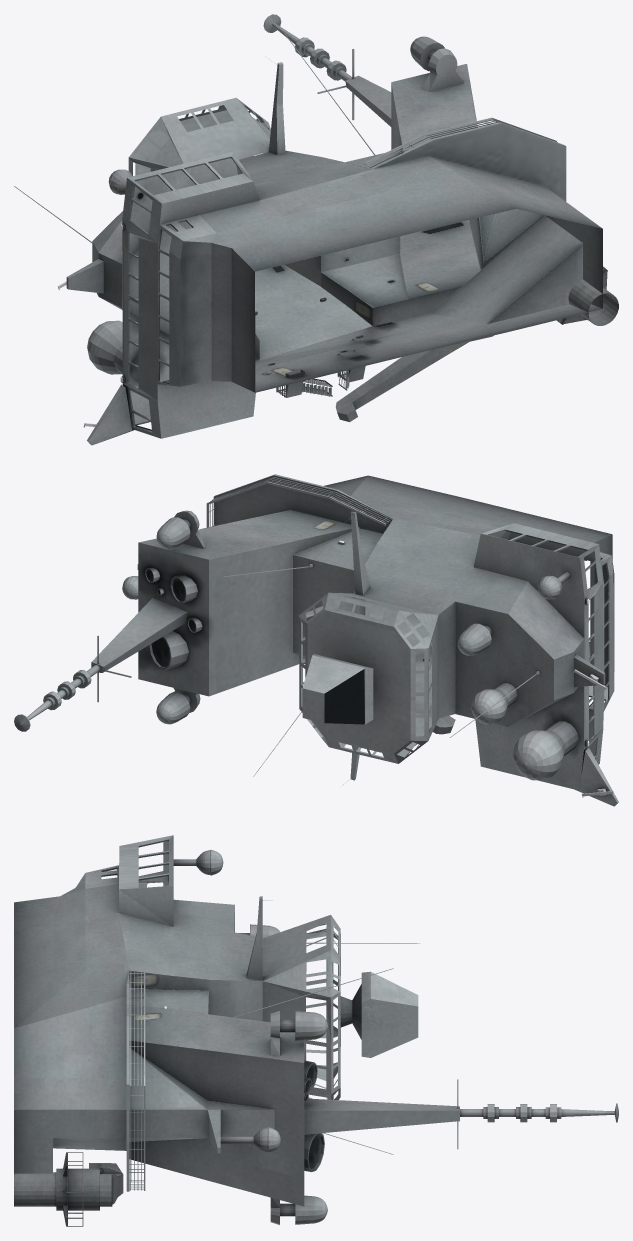
The model's file is cvfFrIlotAvant-hd.fbx.
3 views of the same model, one above another, from view 1: azimuth 30°, elevation 25°; view 2: azimuth 150°, elevation 25°; view 3: azimuth 270°, elevation 25° (orthographic). The views are drawn at different scales.
Parts seen in each view (by area): view 1: ShapeIndexedFaceSet, ShapeIndexedFaceSet_001, ShapeIndexedFaceSet_002; view 2: ShapeIndexedFaceSet, ShapeIndexedFaceSet_001; view 3: ShapeIndexedFaceSet, ShapeIndexedFaceSet_001, ShapeIndexedFaceSet_002.
Boxes of the visible parts, box(x1,y1,x2,y2) form: ShapeIndexedFaceSet: box(66, 64, 602, 392); ShapeIndexedFaceSet_001: box(14, 14, 557, 445); ShapeIndexedFaceSet_002: box(335, 266, 618, 422); ShapeIndexedFaceSet: box(91, 474, 614, 726); ShapeIndexedFaceSet_001: box(14, 477, 618, 806); ShapeIndexedFaceSet: box(14, 873, 459, 1206); ShapeIndexedFaceSet_001: box(85, 835, 618, 1224); ShapeIndexedFaceSet_002: box(14, 1152, 123, 1226).
Bounding box in the file's own units: 36.16 × 20.2 × 38.79.
